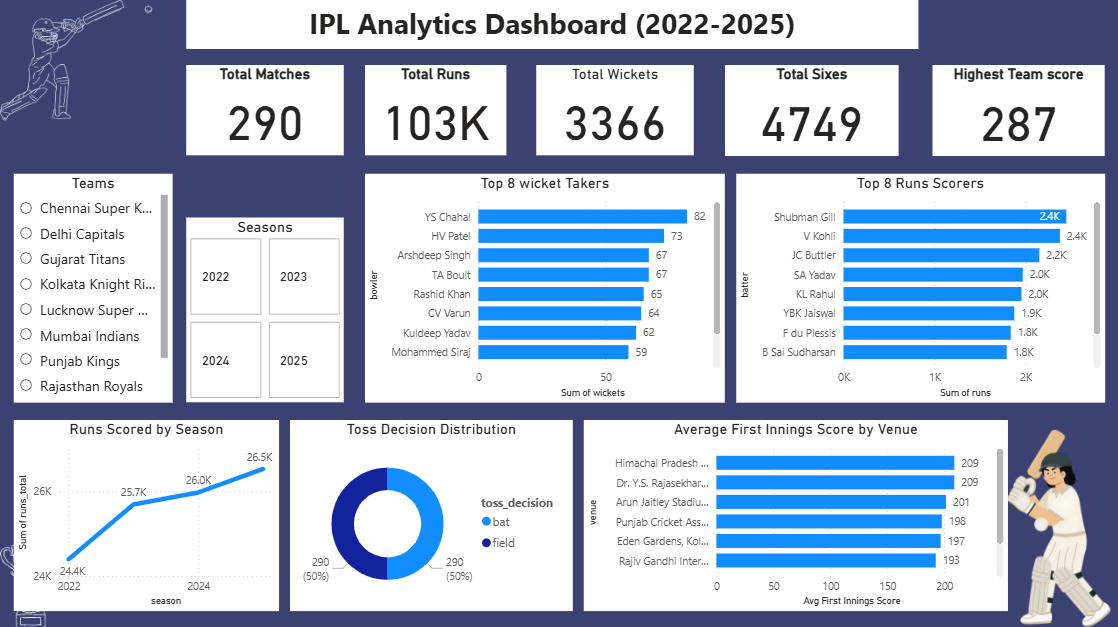

This screenshot's page, from the dashboard's own definition file:
{"tool":"powerbi","page":{"name":"IPL Analytical Dashboard","canvas":[1280,720],"ordinal":0},"visuals":[{"type":"textbox","box":[213.2,0,837,56.1],"z":0},{"type":"advancedSlicerVisual","title":"Seasons","fields":{"Values":["match_summary (1).season"]},"box":[212.9,248.6,180,211.4],"z":1000},{"type":"listSlicer","title":"Teams","fields":{"Values":["batter_stat.batting_team"]},"box":[15,198.3,181.7,261.7],"z":2000},{"type":"card","title":"Total Matches","fields":{"Values":["match_summary (1).Total Matches"]},"box":[212.9,74.3,180,102.9],"z":3000},{"type":"card","title":"Total Runs","fields":{"Values":["ball_by_ball.Total Runs"]},"box":[417.1,74.3,161.4,102.9],"z":4000},{"type":"card","title":"Total Wickets ","fields":{"Values":["ball_by_ball.Total wickets"]},"box":[612.9,74.3,180,102.9],"z":5000},{"type":"card","title":"Highest Team score","fields":{"Values":["match_summary (1).Highest team score"]},"box":[1065.7,74.3,197.1,104.3],"z":6000},{"type":"card","title":"Total Sixes","fields":{"Values":["ball_by_ball.Total Sixes"]},"box":[828.6,74.3,198.6,104.3],"z":7000},{"type":"lineChart","title":"Runs Scored by Season","fields":{"Category":["ball_by_ball.season"],"Y":["Sum(ball_by_ball.runs_total)"]},"box":[15,480,303.3,218.3],"z":8000},{"type":"clusteredBarChart","title":"Top 8 Runs Scorers","fields":{"Category":["batter_stat.batter"],"Y":["Sum(batter_stat.runs)"]},"box":[841.4,198.6,421.4,261.4],"z":9000},{"type":"clusteredBarChart","title":"Top 8 wicket Takers","fields":{"Category":["bowler_stat.bowler"],"Y":["Sum(bowler_stat.wickets)"]},"box":[417.1,198.6,411.4,261.4],"z":10000},{"type":"donutChart","title":"Toss Decision Distribution","fields":{"Category":["ball_by_ball.toss_decision"],"Y":["match_summary (1).Total Matches"]},"box":[331.7,480,323.3,218.3],"z":11000},{"type":"barChart","title":"Average First Innings Score by Venue","fields":{"Y":["match_summary (1).Avg First Innings Score"],"Category":["match_summary (1).venue"]},"box":[666.7,480,485,218.3],"z":12000}]}

Visuals, with their boxes in screenshot pixels (x1, y1, x2, y2), scaled from the page's 1280x720 canvas onto the 1118x627 screenshot:
textbox: bbox=(186, 0, 917, 49)
"Seasons" advancedSlicerVisual: bbox=(186, 216, 343, 401)
"Teams" listSlicer: bbox=(13, 173, 172, 401)
"Total Matches" card: bbox=(186, 65, 343, 154)
"Total Runs" card: bbox=(364, 65, 505, 154)
"Total Wickets " card: bbox=(535, 65, 693, 154)
"Highest Team score" card: bbox=(931, 65, 1103, 156)
"Total Sixes" card: bbox=(724, 65, 897, 156)
"Runs Scored by Season" lineChart: bbox=(13, 418, 278, 608)
"Top 8 Runs Scorers" clusteredBarChart: bbox=(735, 173, 1103, 401)
"Top 8 wicket Takers" clusteredBarChart: bbox=(364, 173, 724, 401)
"Toss Decision Distribution" donutChart: bbox=(290, 418, 572, 608)
"Average First Innings Score by Venue" barChart: bbox=(582, 418, 1006, 608)
